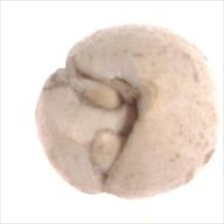L3: (59, 55, 141, 172)
L4: (35, 25, 218, 199)
